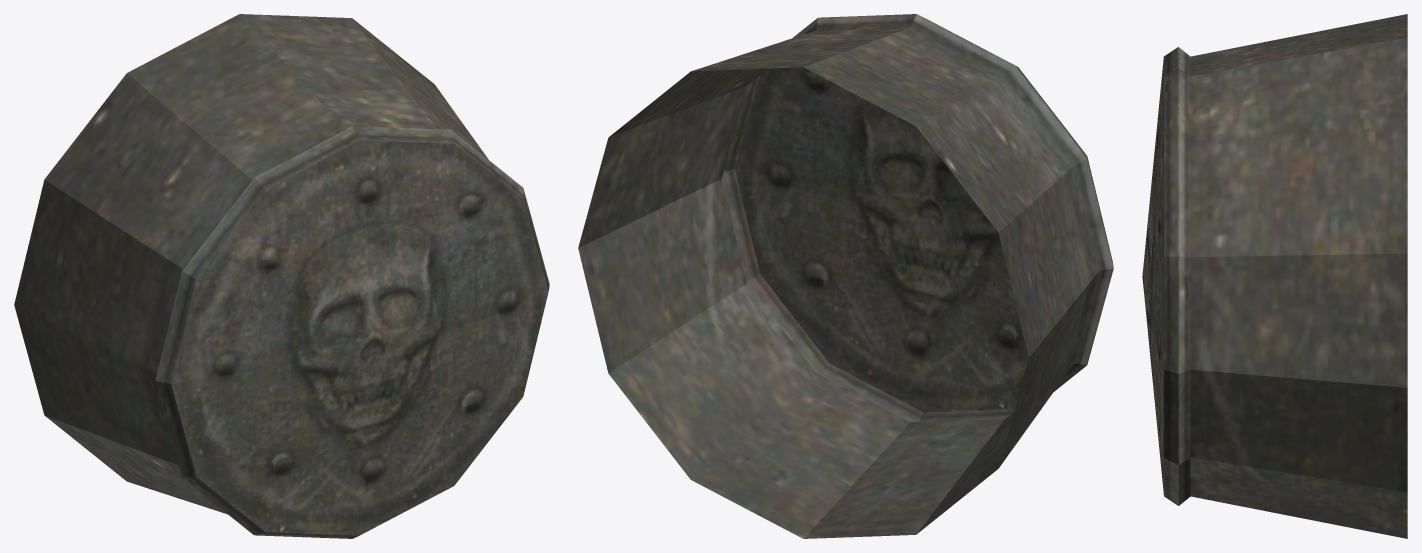
The model's file is ornament.dae.
The picture shows the model from 3 angles, left to right: view 1: azimuth 30°, elevation 25°; view 2: azimuth 150°, elevation 25°; view 3: azimuth 270°, elevation 25°; orthographic projection.
Parts seen in each view (by area): view 1: Default_Layer; view 2: Default_Layer; view 3: Default_Layer.
Part boxes in pixels (left/top/right/bottom): Default_Layer: left=14, top=14, right=549, bottom=538; Default_Layer: left=578, top=14, right=1113, bottom=538; Default_Layer: left=1142, top=14, right=1407, bottom=538.
Size of the model in its own units: 0.3176 by 0.3176 by 0.1598.
